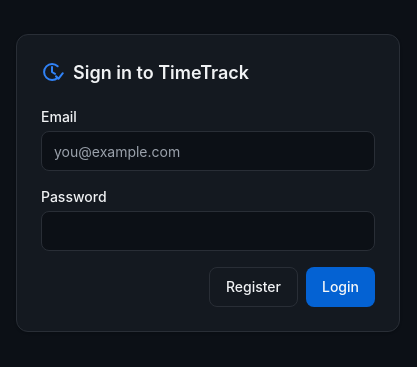
LoginPage › shows invalid credentials error on wrong password
Step 1. Type "login-test@example.com" into the field named "email" → (208, 151), box [41,131,375,171]
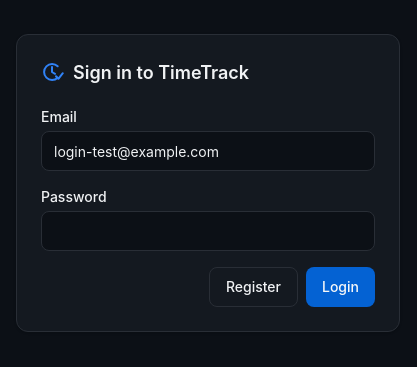
Step 2. Type "WrongPassword!WrongPassword!" into the password field named "password" → (208, 231), box [41,211,375,251]
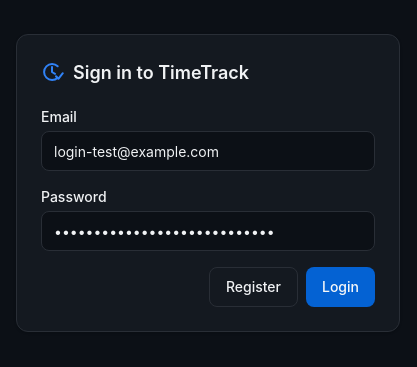
Step 3. Click the button "Login" → (340, 287), box [306,267,375,307]
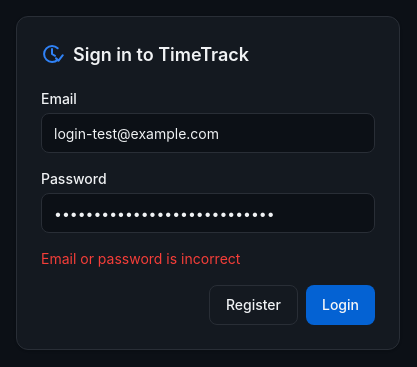
Check: the message "Email or password is incorrect" is shown, box [41,250,240,267]
